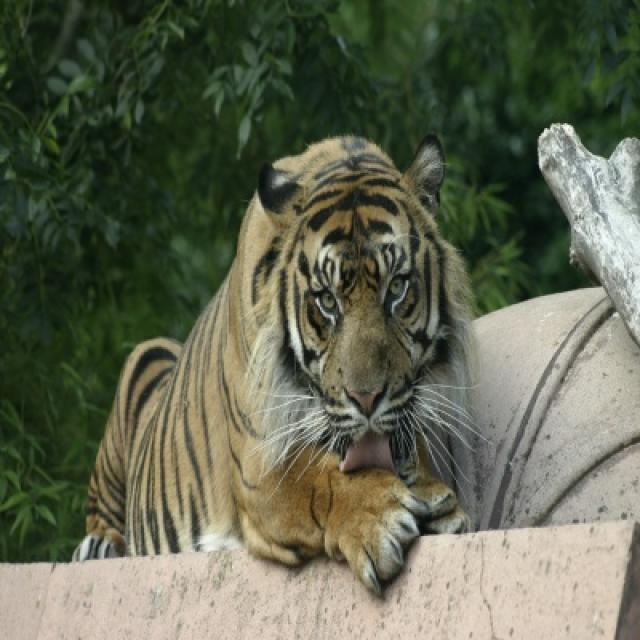Tiger: (71, 135, 477, 593)
